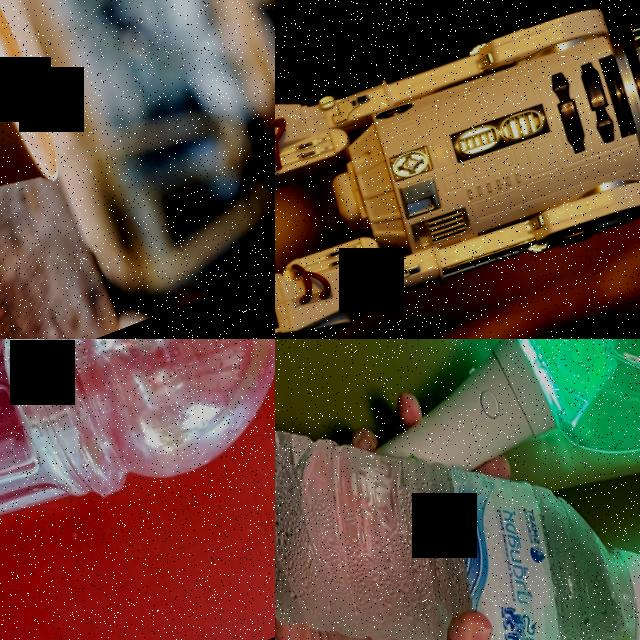bottle: (275, 339, 640, 640), (0, 339, 275, 603)
cup: (0, 0, 71, 252)
